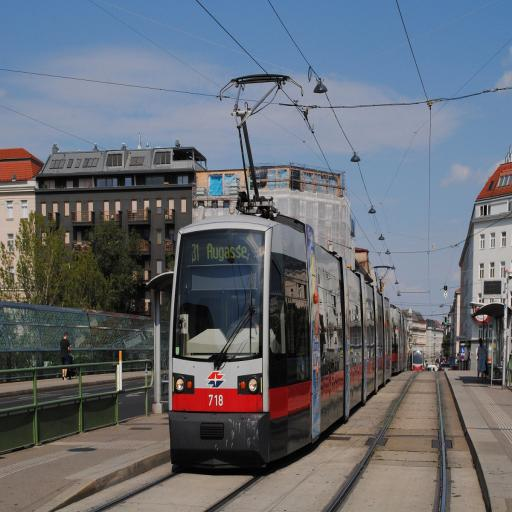ULF: (169, 210, 406, 470)
